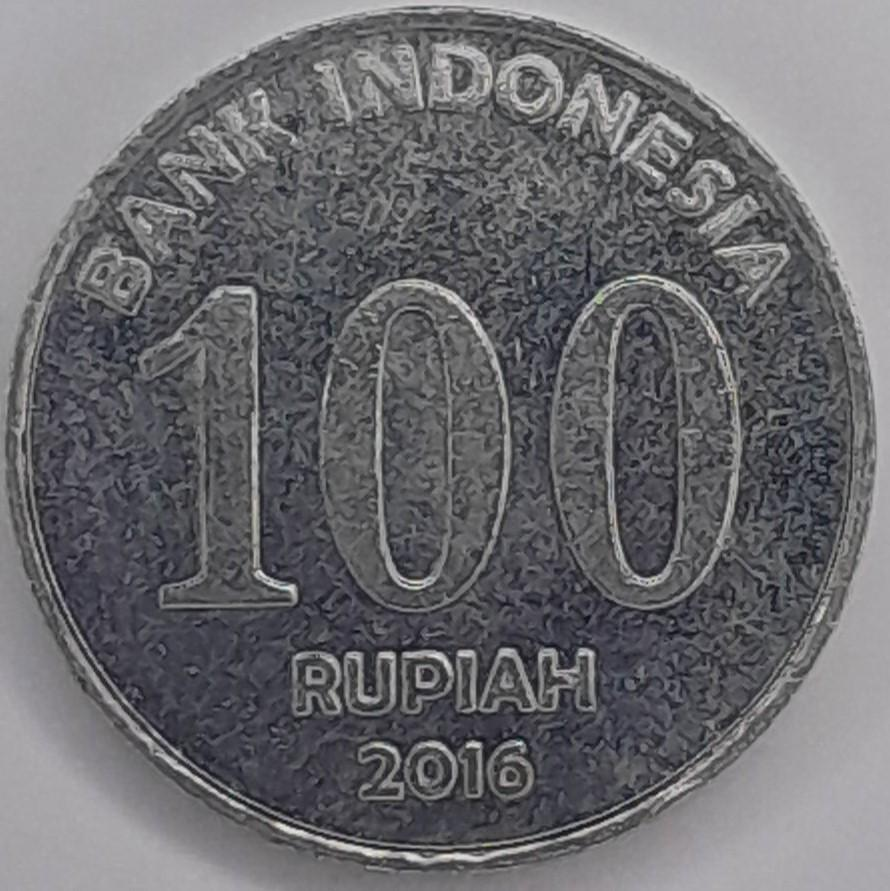coin_100_e2016: (1, 0, 882, 874)
